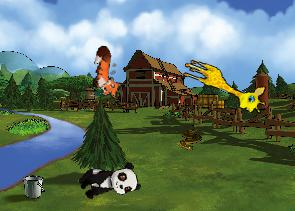fox: (88, 45, 130, 101)
giraffe: (176, 56, 271, 117)
panda: (76, 160, 141, 203)
